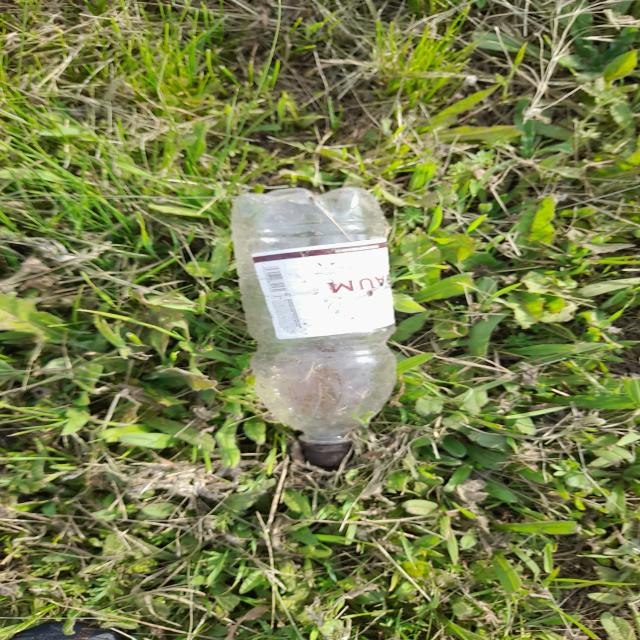empty: (232, 187, 396, 466)
